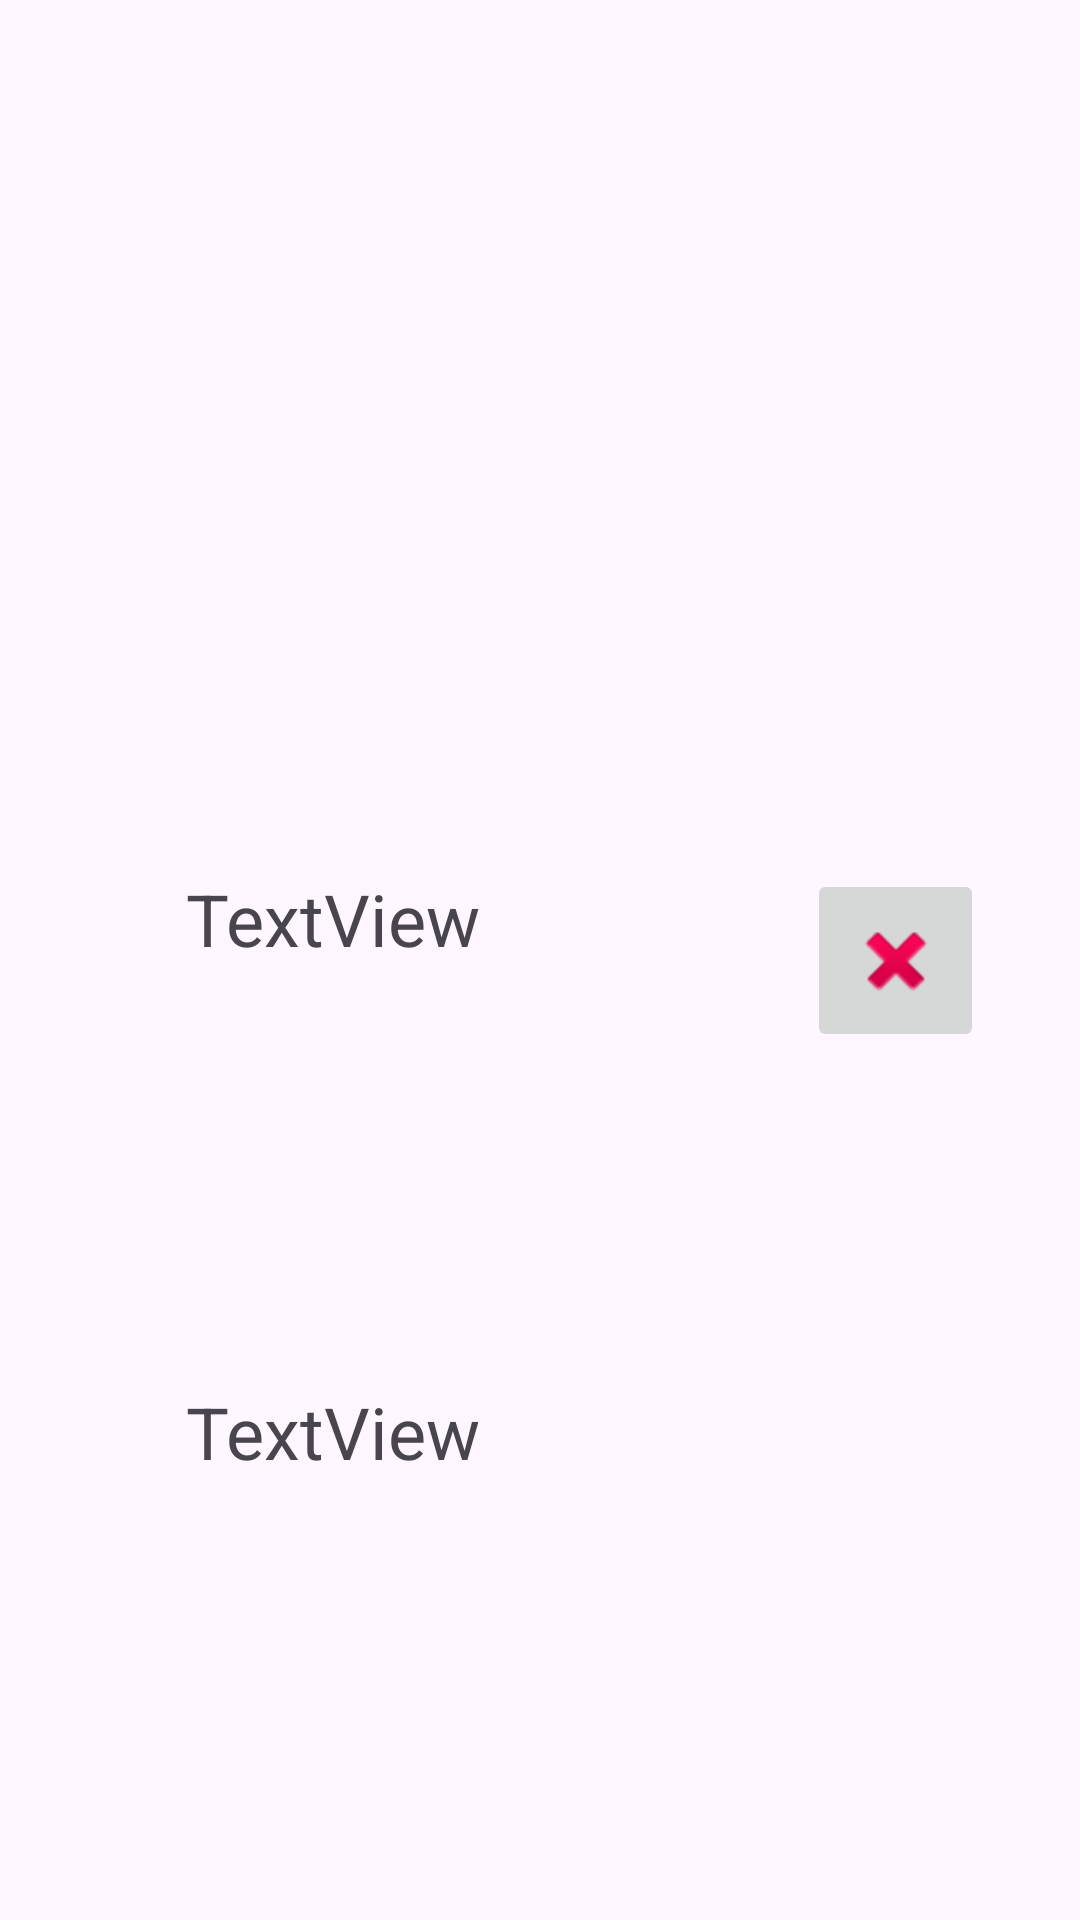

Icon click points for this 1080px x 1920px phone screenshot, format (x,y):
delete: (895,960)
